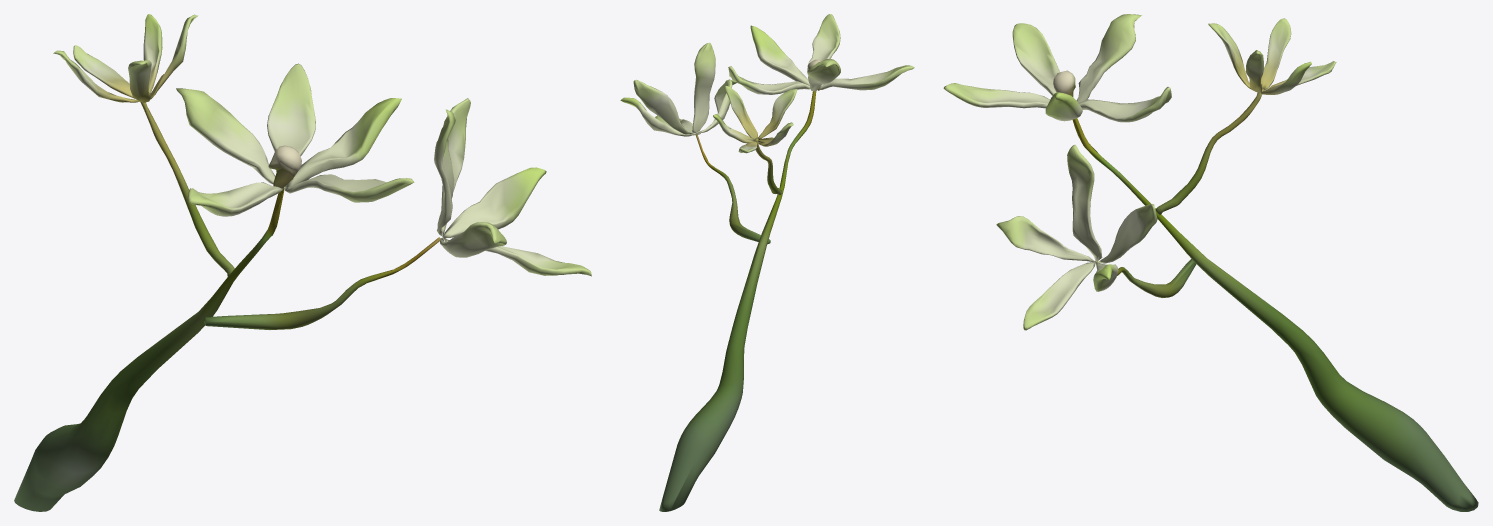
3 views of the same model, side by side, from view 1: azimuth 30°, elevation 25°; view 2: azimuth 150°, elevation 25°; view 3: azimuth 270°, elevation 25° (orthographic). The views are drawn at different scales.
Visible parts, largest first — view 1: LOD 3_6708565968084579216_bb9398364d468ec489d5e3c54dd32286; view 2: LOD 3_6708565968084579216_bb9398364d468ec489d5e3c54dd32286; view 3: LOD 3_6708565968084579216_bb9398364d468ec489d5e3c54dd32286.
Boxes of the visible parts, <box> form: LOD 3_6708565968084579216_bb9398364d468ec489d5e3c54dd32286: <box>14,14,591,511</box>; LOD 3_6708565968084579216_bb9398364d468ec489d5e3c54dd32286: <box>620,14,914,511</box>; LOD 3_6708565968084579216_bb9398364d468ec489d5e3c54dd32286: <box>943,14,1478,511</box>.
Bounding box in the file's own units: 7.96 × 10.64 × 10.92.
